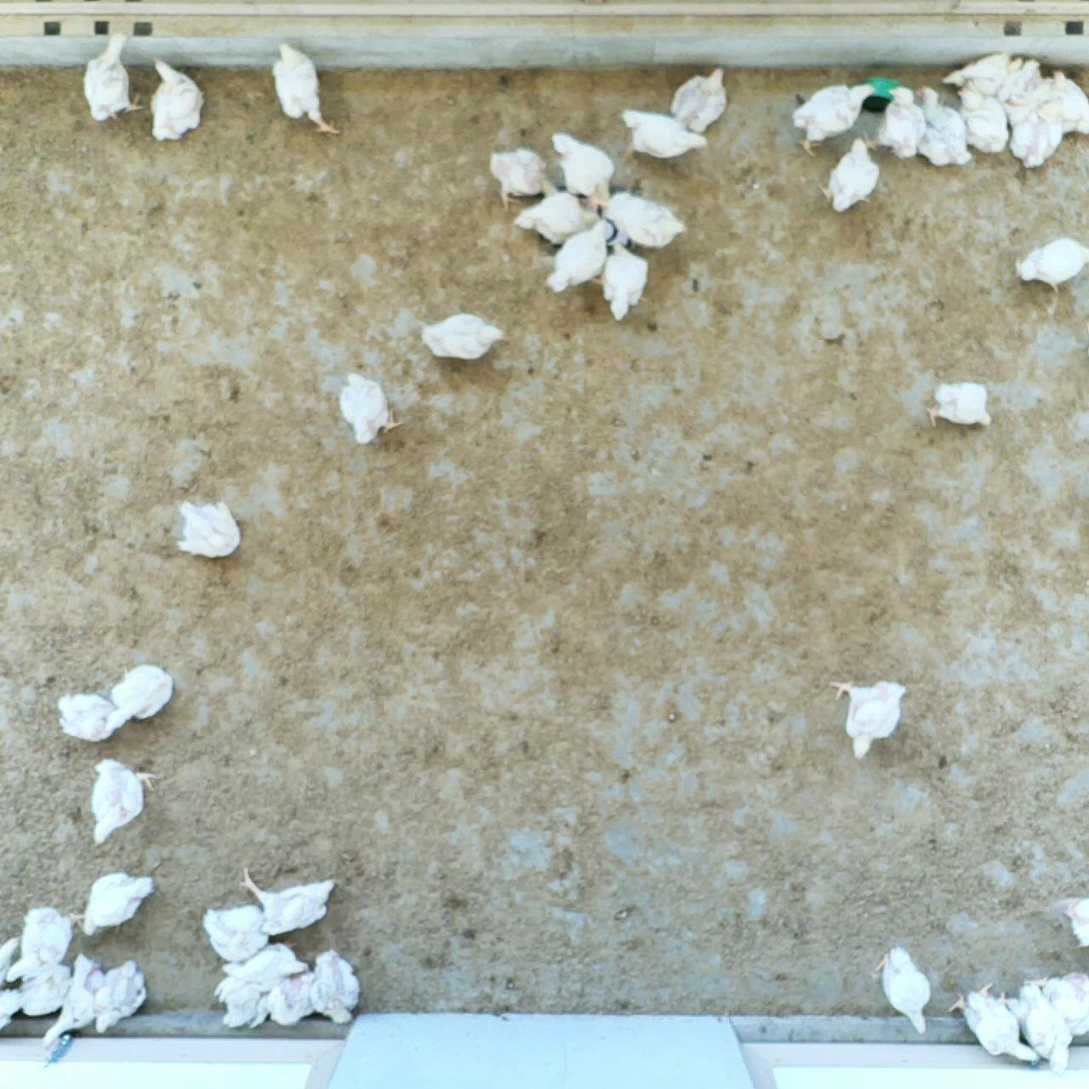chicken: (660, 65, 734, 161), (72, 864, 160, 944), (830, 671, 909, 760), (265, 37, 339, 130), (1000, 978, 1076, 1067), (947, 983, 1034, 1058), (868, 944, 939, 1035), (598, 181, 689, 251), (81, 29, 150, 117), (169, 490, 250, 562), (547, 130, 621, 207), (85, 753, 148, 843), (785, 80, 894, 132), (485, 136, 558, 213), (1009, 234, 1088, 305), (818, 133, 879, 221), (198, 898, 279, 964), (616, 103, 700, 166), (413, 309, 511, 362), (914, 88, 975, 173), (336, 370, 403, 446), (537, 218, 607, 290), (301, 940, 360, 1025), (143, 67, 211, 140), (944, 54, 1036, 105), (106, 659, 180, 721), (514, 182, 602, 234), (50, 689, 140, 739), (1001, 94, 1060, 168), (954, 81, 1008, 160), (51, 957, 105, 1035), (250, 876, 332, 927), (928, 379, 994, 442), (596, 242, 647, 322), (1029, 65, 1087, 134), (879, 84, 930, 161), (1041, 969, 1089, 1050), (14, 909, 73, 973), (265, 972, 322, 1033), (216, 970, 281, 1021), (3, 965, 75, 1007), (94, 969, 149, 1022), (231, 948, 305, 984), (1060, 897, 1067, 939)
